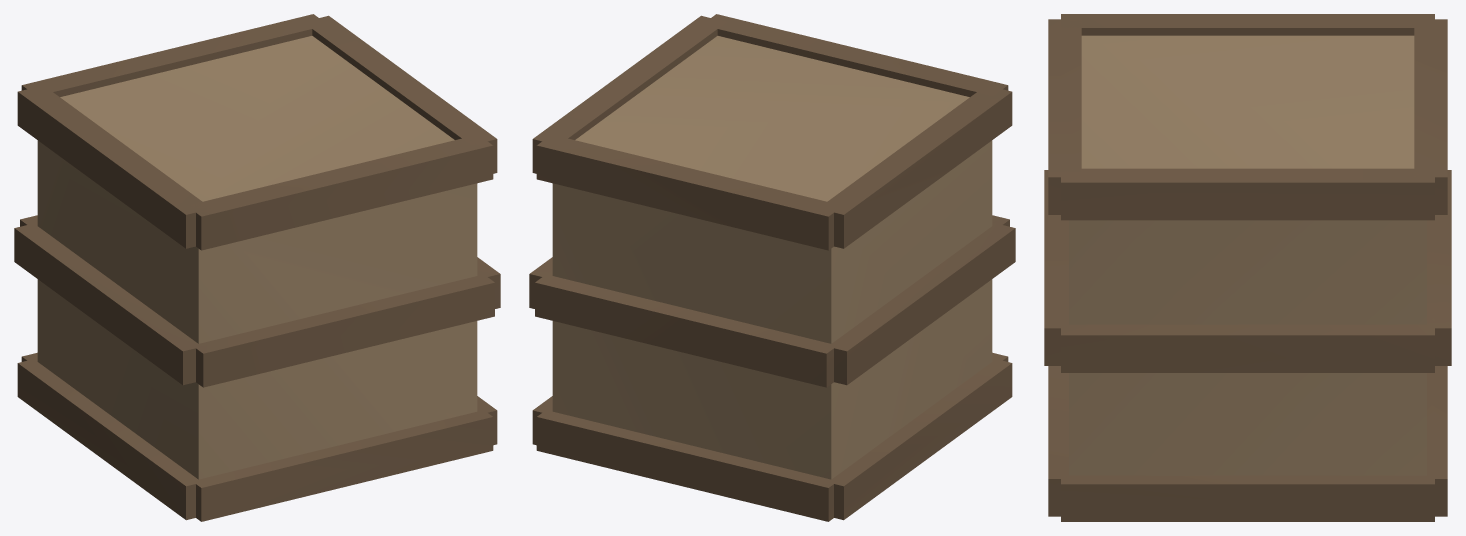
Rendered from Crate.glb.
3 renders of one model, left to right at view 1: azimuth 30°, elevation 25°; view 2: azimuth 150°, elevation 25°; view 3: azimuth 270°, elevation 25°, orthographic. The views are drawn at different scales.
Parts seen in each view (by area): view 1: Crate; view 2: Crate; view 3: Crate.
Part boxes in pixels (bbox=[...]): Crate: bbox=[14, 14, 500, 521]; Crate: bbox=[529, 14, 1015, 521]; Crate: bbox=[1044, 14, 1451, 521].
Size of the model in its own units: 0.98 by 0.9 by 0.98.
